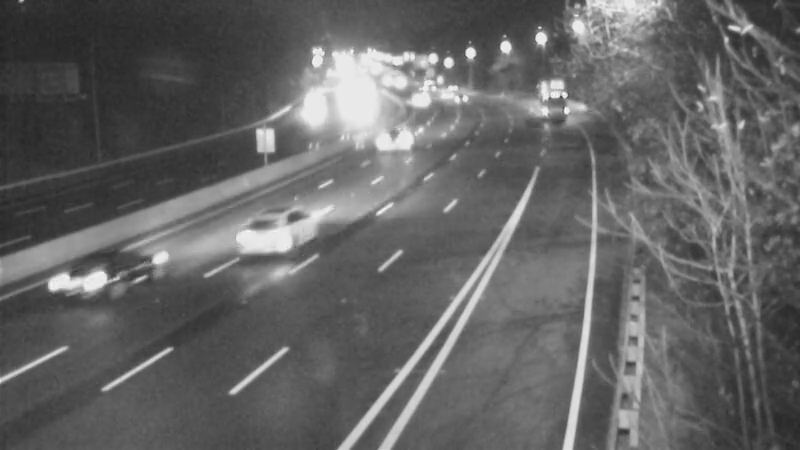vehicle: (217, 199, 297, 279), (44, 235, 124, 315), (423, 75, 473, 125), (433, 73, 483, 123), (520, 77, 570, 127), (366, 112, 416, 162), (282, 75, 332, 125)
